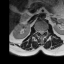CCS_normal: (40, 29, 42, 36)
LFS_severe_stenosis: (44, 29, 46, 34)
LLS_normal: (42, 29, 44, 35)
RFS_stenosis: (37, 29, 39, 34)
RLS_normal: (39, 29, 41, 34)
